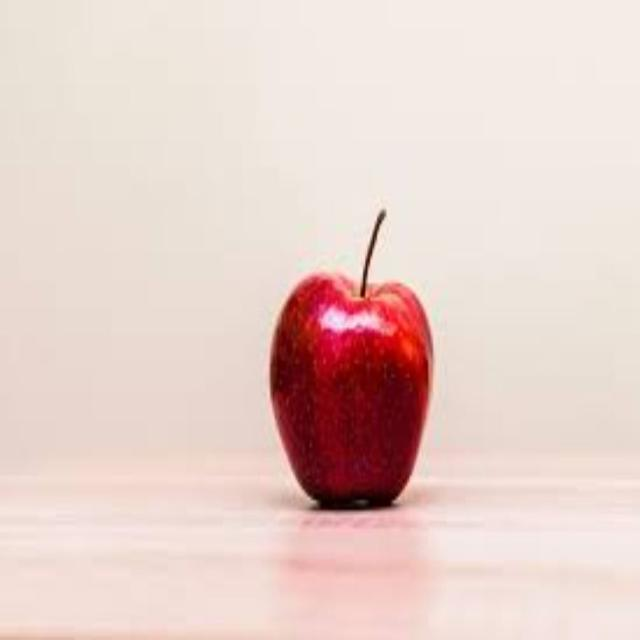Healty Apple: (257, 228, 468, 522)
